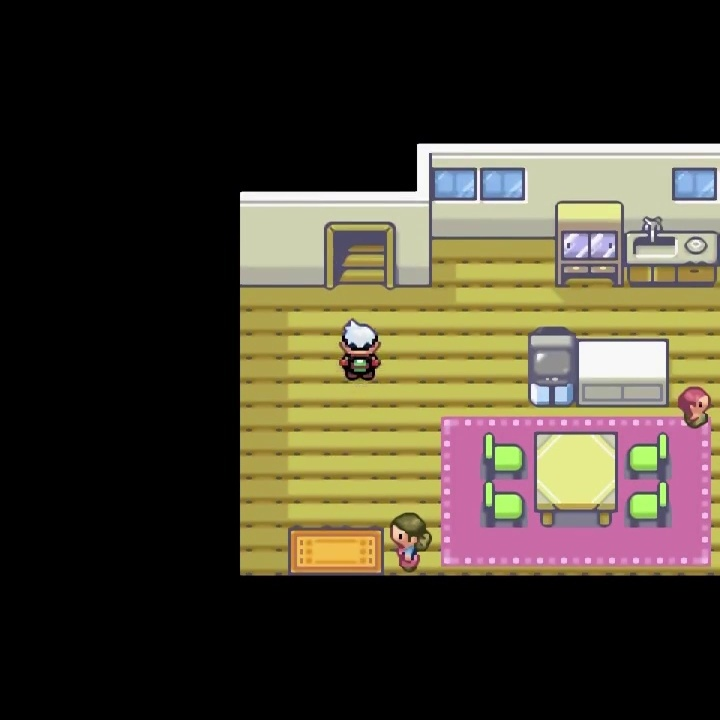agent: (335, 314, 384, 387)
exit: (286, 526, 385, 633)
npc: (388, 510, 435, 573), (676, 383, 714, 434)
